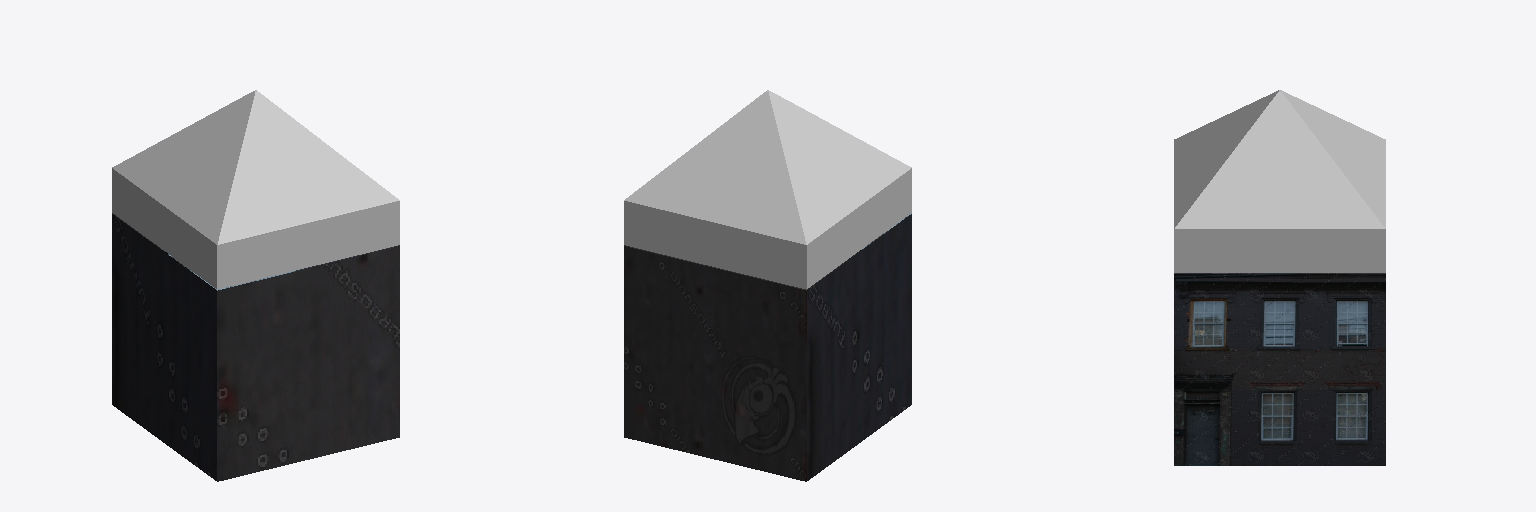
3 views of the same model, side by side, from view 1: azimuth 30°, elevation 25°; view 2: azimuth 150°, elevation 25°; view 3: azimuth 270°, elevation 25° (orthographic).
Parts seen in each view (by area): view 1: Cube, Cube.001; view 2: Cube, Cube.001; view 3: Cube, Cube.001.
Boxes of the visible parts, x1,y1,x2,y2 form: Cube: [112, 213, 399, 481]; Cube.001: [112, 90, 399, 289]; Cube: [624, 213, 911, 481]; Cube.001: [624, 90, 911, 289]; Cube: [1174, 273, 1385, 465]; Cube.001: [1174, 90, 1385, 272].
Size of the model in its own units: 6.86 by 11.83 by 6.86.
Materials: 2 (1 with a texture image).